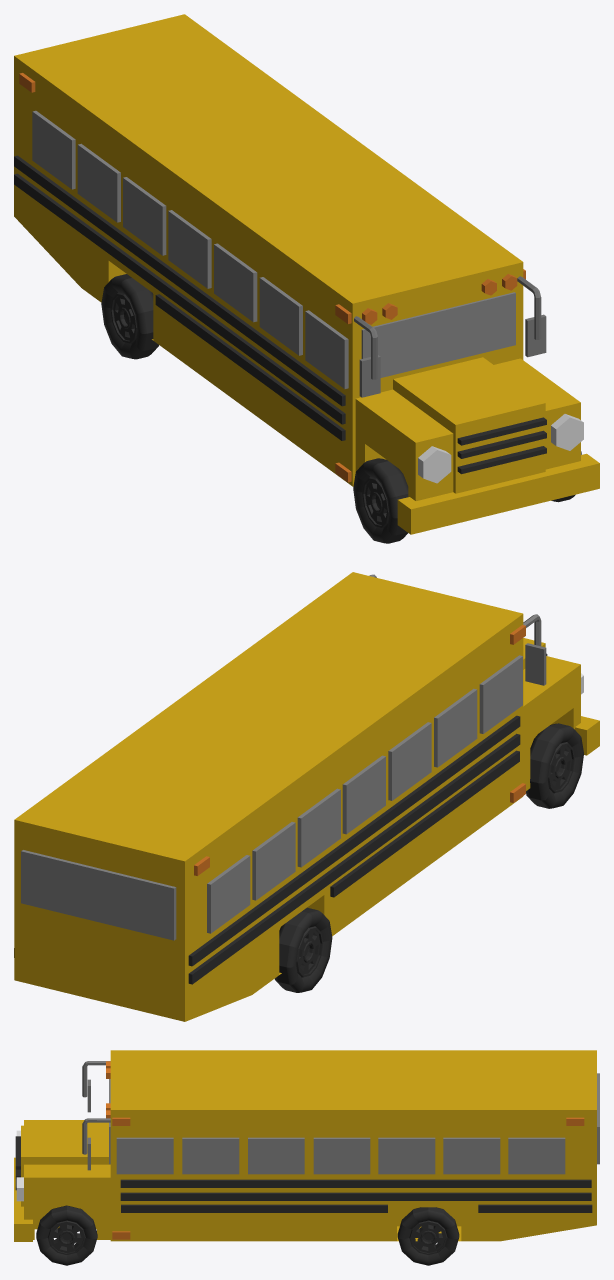
File: BUS_1_stock.fbx
3 renders of one model, top to bottom at view 1: azimuth 30°, elevation 25°; view 2: azimuth 150°, elevation 25°; view 3: azimuth 270°, elevation 25°, orthographic. The views are drawn at different scales.
Parts seen in each view (by area): view 1: bus_main, fenster, bus_front, schwarze_streifen, stossstange, reifen_hinten, reifen_vorne, rueckspiegel, schwarze_streifen_vorne, scheinwerfer, blinklichter; view 2: bus_main, fenster, schwarze_streifen, bus_front, reifen_vorne, reifen_hinten, rueckspiegel, stossstange, blinklichter; view 3: bus_main, fenster, schwarze_streifen, bus_front, reifen_vorne, reifen_hinten, rueckspiegel, stossstange, blinklichter.
Part boxes in pixels (x1=…): bus_main: x1=14, y1=14, x2=523, y2=486; fenster: x1=32, y1=110, x2=515, y2=388; bus_front: x1=355, y1=357, x2=580, y2=500; schwarze_streifen: x1=14, y1=155, x2=345, y2=440; stossstange: x1=397, y1=453, x2=599, y2=534; reifen_hinten: x1=101, y1=274, x2=158, y2=359; reifen_vorne: x1=353, y1=451, x2=581, y2=543; rueckspiegel: x1=354, y1=276, x2=546, y2=397; schwarze_streifen_vorne: x1=457, y1=417, x2=546, y2=474; scheinwerfer: x1=418, y1=414, x2=583, y2=483; blinklichter: x1=19, y1=73, x2=525, y2=482; bus_main: x1=14, y1=572, x2=523, y2=1021; fenster: x1=21, y1=655, x2=522, y2=940; schwarze_streifen: x1=14, y1=715, x2=520, y2=984; bus_front: x1=523, y1=638, x2=580, y2=790; reifen_vorne: x1=526, y1=723, x2=583, y2=808; reifen_hinten: x1=274, y1=907, x2=332, y2=992; rueckspiegel: x1=369, y1=574, x2=546, y2=685; stossstange: x1=575, y1=716, x2=599, y2=755; blinklichter: x1=194, y1=625, x2=525, y2=875; bus_main: x1=110, y1=1050, x2=596, y2=1241; fenster: x1=109, y1=1073, x2=599, y2=1174; schwarze_streifen: x1=120, y1=1179, x2=592, y2=1212; bus_front: x1=21, y1=1120, x2=110, y2=1239; reifen_vorne: x1=36, y1=1205, x2=97, y2=1265; reifen_hinten: x1=397, y1=1207, x2=459, y2=1265; rueckspiegel: x1=82, y1=1061, x2=110, y2=1170; stossstange: x1=14, y1=1157, x2=32, y2=1241; blinklichter: x1=106, y1=1061, x2=584, y2=1239.
Size of the model in its own units: 235 by 251 by 868.
